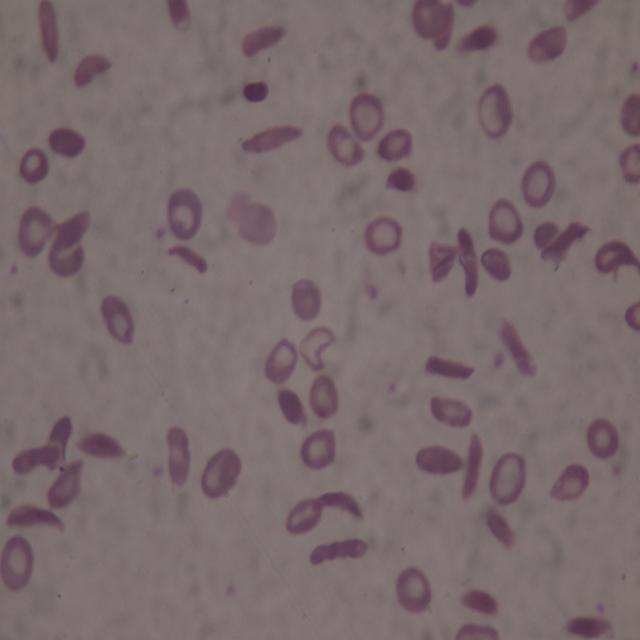Crystal: (500, 320, 538, 378), (456, 225, 481, 300), (307, 538, 368, 568), (52, 208, 90, 256), (46, 412, 74, 472), (415, 443, 465, 475), (11, 444, 60, 474), (562, 614, 610, 640), (484, 507, 513, 547), (456, 26, 496, 54), (460, 587, 498, 615)
Normal: (488, 450, 527, 504), (0, 532, 35, 592), (519, 158, 555, 206), (300, 426, 339, 469), (488, 197, 523, 243), (350, 94, 384, 139), (396, 568, 430, 613), (363, 217, 402, 256), (586, 419, 619, 459), (19, 146, 49, 186)
Others: (201, 448, 241, 499), (478, 82, 512, 141), (18, 204, 53, 258), (45, 460, 85, 507), (327, 124, 367, 170), (168, 185, 200, 242), (297, 322, 335, 370), (99, 294, 133, 346), (428, 392, 474, 428), (592, 237, 638, 273), (236, 202, 274, 245), (547, 462, 589, 500), (48, 237, 85, 278), (165, 426, 191, 484), (284, 496, 324, 533), (263, 338, 296, 382), (526, 25, 567, 60), (308, 375, 341, 418), (428, 236, 457, 283), (278, 387, 310, 429), (290, 279, 321, 322), (48, 126, 88, 158), (377, 126, 412, 162), (411, 0, 443, 37), (432, 0, 454, 50), (480, 249, 512, 281), (619, 90, 640, 138), (619, 143, 640, 184), (455, 620, 501, 637), (532, 220, 558, 250), (168, 0, 190, 33), (562, 1, 598, 21), (385, 169, 414, 192), (241, 83, 269, 103), (624, 297, 640, 332)
Sickle: (539, 217, 592, 262), (241, 123, 304, 158), (6, 502, 66, 533), (310, 489, 366, 521), (425, 352, 477, 386), (460, 429, 483, 504), (38, 0, 62, 66), (75, 431, 129, 460), (242, 25, 288, 59), (73, 49, 112, 88), (167, 244, 209, 276)
